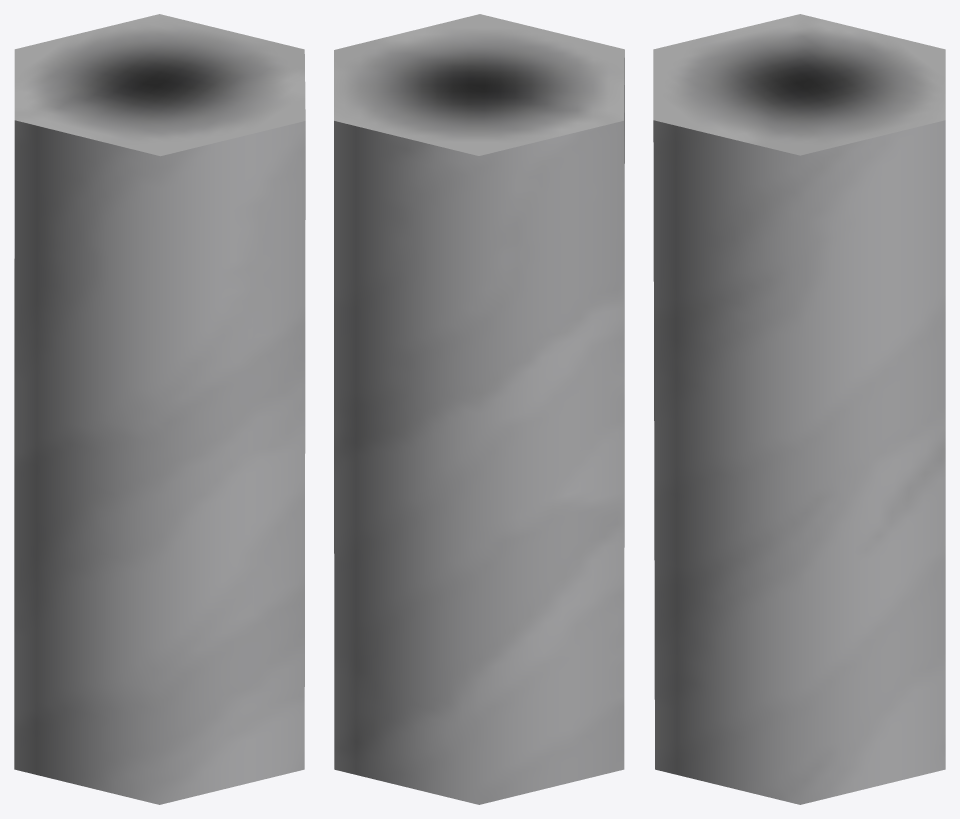
Rendered from MetalPipeSilencer_Ground.fbx.
3 renders of one model, left to right at view 1: azimuth 30°, elevation 25°; view 2: azimuth 150°, elevation 25°; view 3: azimuth 270°, elevation 25°, orthographic.
Parts seen in each view (by area): view 1: MetalPipe; view 2: MetalPipe; view 3: MetalPipe.
Part boxes in pixels (x1,y1,x2,y2): MetalPipe: (14,14,305,804); MetalPipe: (334,14,624,804); MetalPipe: (653,14,945,804).
Size of the model in its own units: 9.19 by 19.63 by 8.
